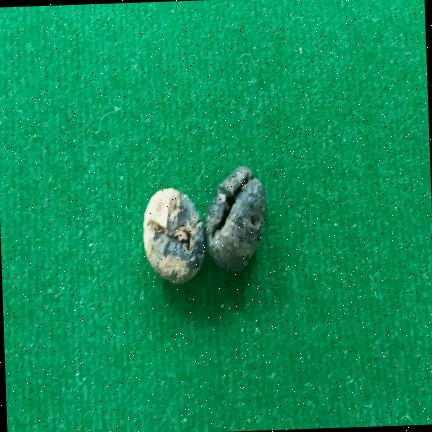partial-black: (206, 166, 266, 271), (143, 188, 205, 283)
